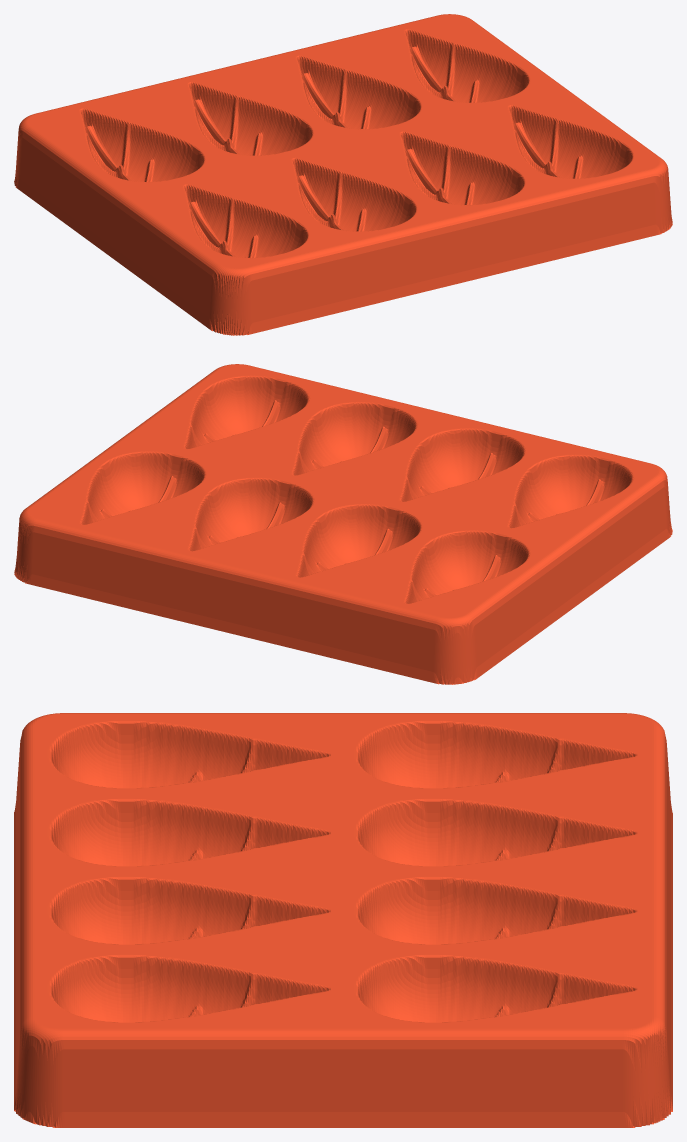
The model's file is mold.glb.
The picture shows the model from 3 angles, top to bottom: view 1: azimuth 30°, elevation 25°; view 2: azimuth 150°, elevation 25°; view 3: azimuth 270°, elevation 25°; orthographic projection. The views are drawn at different scales.
Parts seen in each view (by area): view 1: geometry_0; view 2: geometry_0; view 3: geometry_0.
Part boxes in pixels (left/top/right/bottom): geometry_0: left=14, top=14, right=672, bottom=335; geometry_0: left=14, top=364, right=672, bottom=684; geometry_0: left=14, top=713, right=672, bottom=1127.
Bounding box in the file's own units: 0.1455 × 0.0185 × 0.1222.
